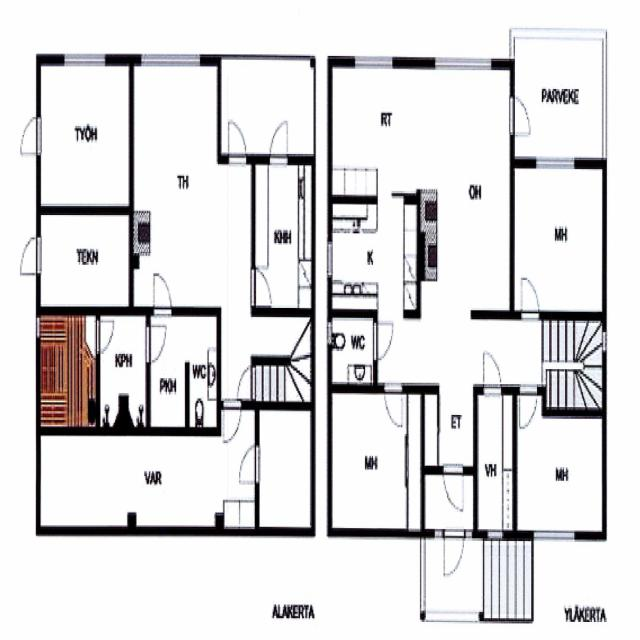door: (444, 528, 464, 580), (443, 466, 462, 515), (17, 116, 40, 155), (269, 116, 288, 163), (384, 383, 402, 432), (154, 268, 172, 315), (521, 272, 539, 319), (18, 237, 40, 275), (237, 444, 259, 482), (510, 96, 532, 134), (228, 118, 246, 164), (484, 346, 501, 393), (146, 326, 168, 362), (374, 322, 395, 359), (223, 401, 240, 446), (520, 384, 537, 429), (251, 269, 272, 303), (96, 320, 116, 355), (236, 365, 254, 398)
